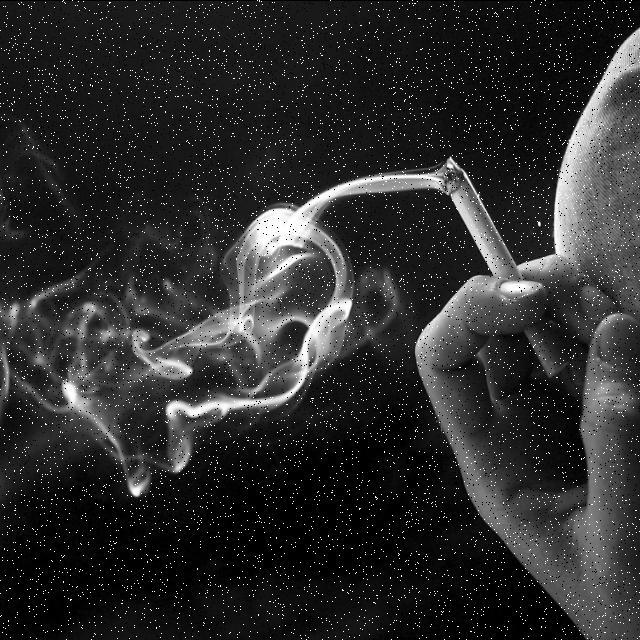cigarette: (442, 155, 560, 399)
